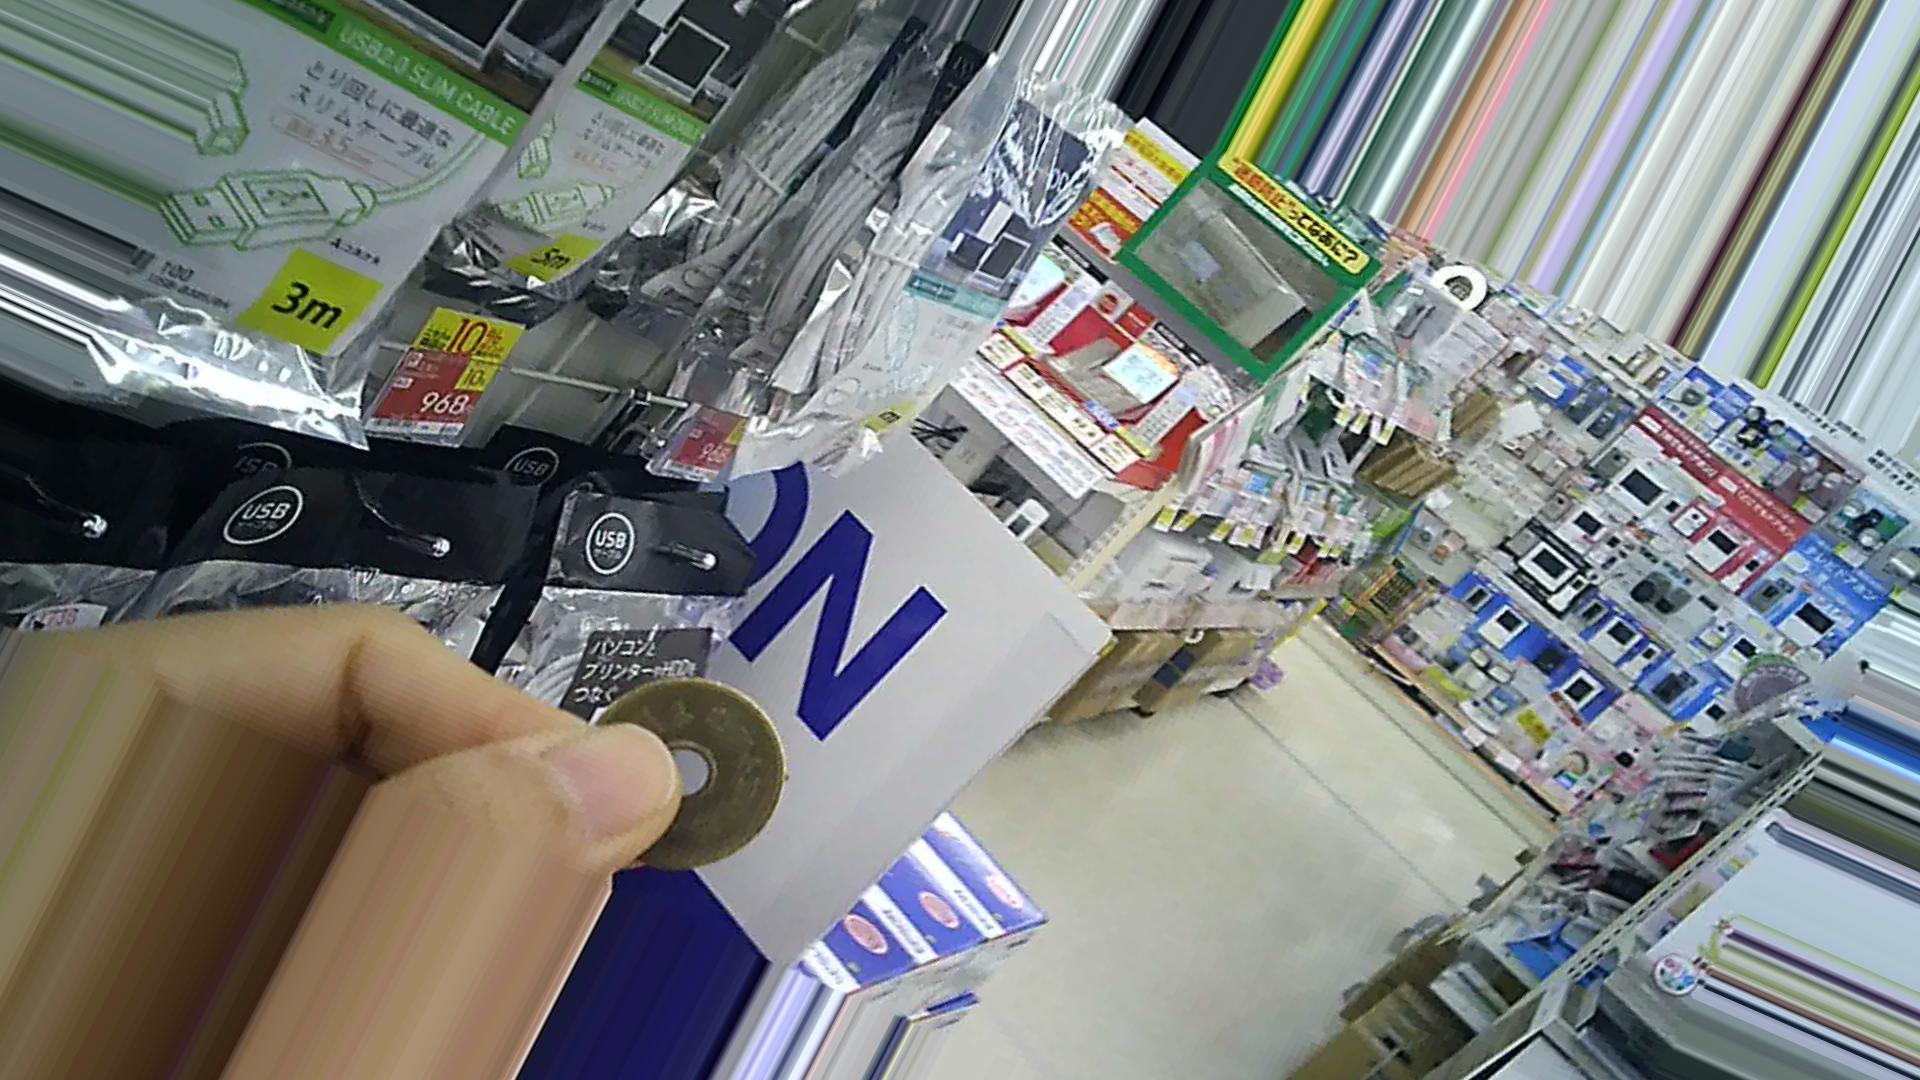5 Yen: (596, 690, 804, 884)
